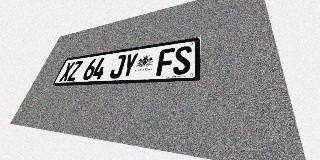4: (91, 57, 109, 80)
6: (81, 58, 99, 80)
F: (156, 48, 175, 76)
J: (109, 54, 127, 79)
S: (172, 45, 192, 75)
X: (59, 62, 75, 82)
Y: (120, 53, 139, 78)
Z: (67, 60, 83, 81)
